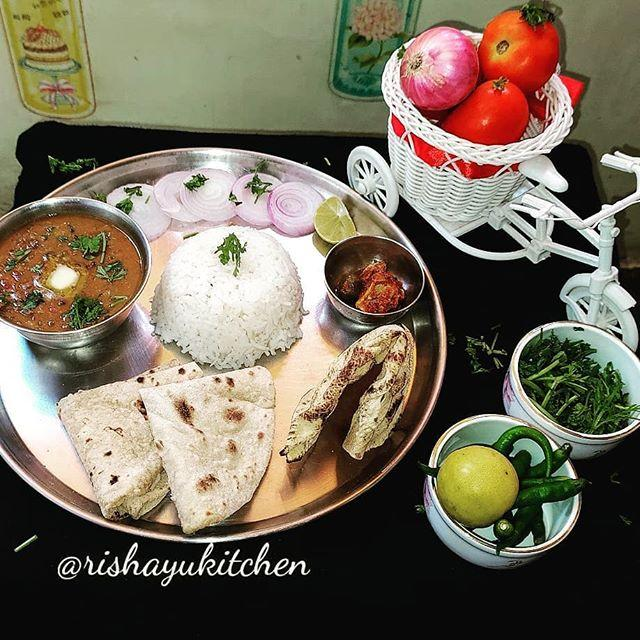Roti: (42, 362, 278, 524)
White Rice: (156, 219, 301, 370)
